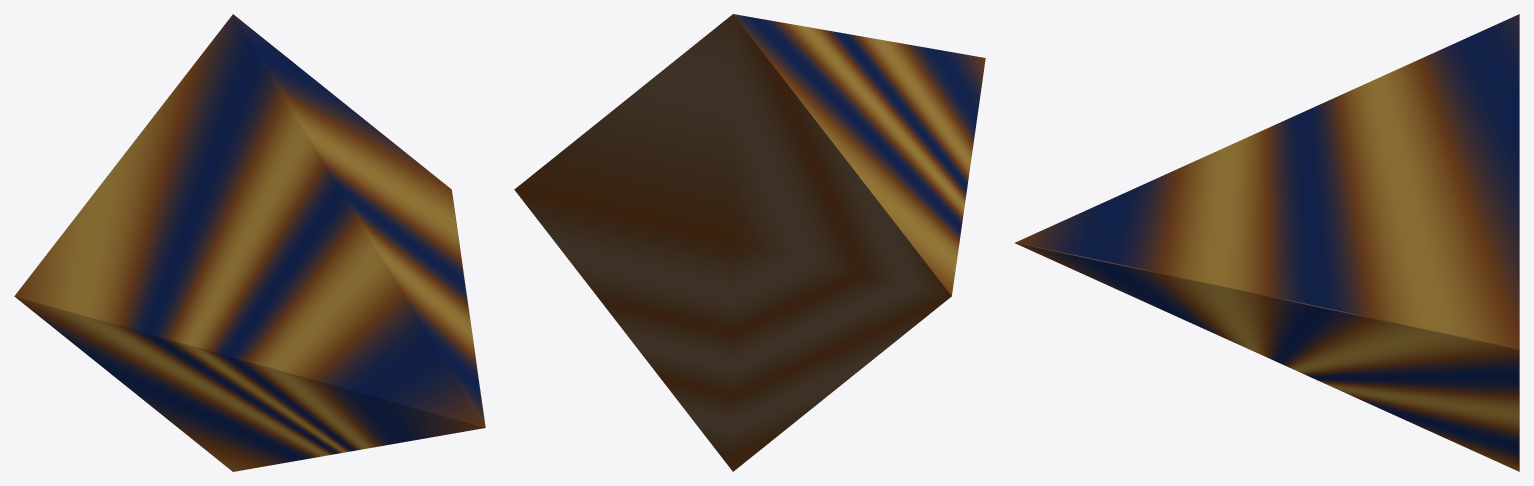
Rendered from pyramid-copper-c1.glb.
3 renders of one model, left to right at view 1: azimuth 30°, elevation 25°; view 2: azimuth 150°, elevation 25°; view 3: azimuth 270°, elevation 25°, orthographic.
Visible parts, largest first — view 1: world; view 2: world; view 3: world.
Part boxes in pixels (x1,y1,x2,y2): world: (14,14,485,471); world: (514,14,985,471); world: (1015,14,1519,471).
Size of the model in its own units: 1.2 by 1.2 by 1.2.
1 material, 1 textured.
